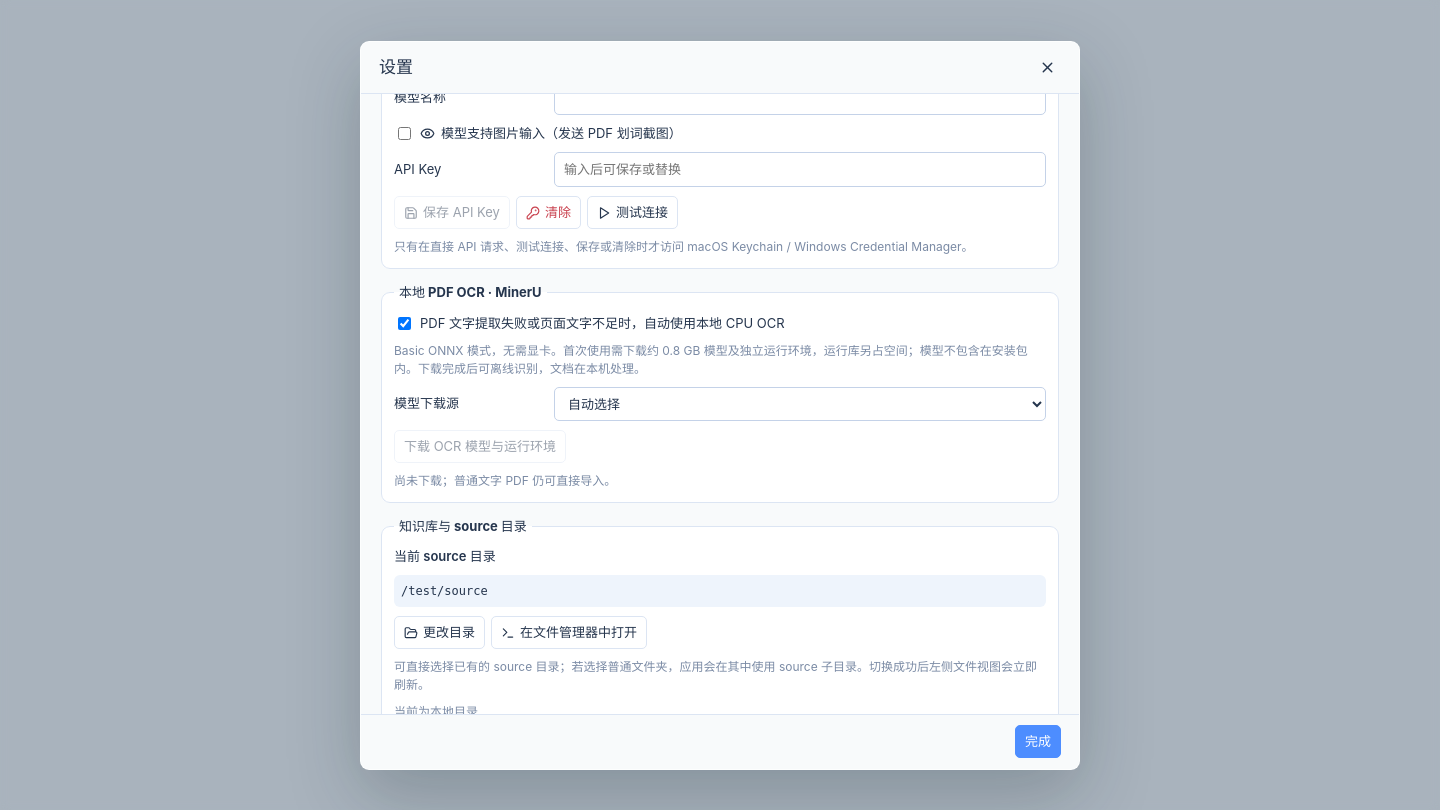
Test case: downloads on demand with the selected source and shows readiness
This screenshot has width=1440, height=810.
(page scrolled)
Expected: the text "尚未下载；普通文字 PDF 仍可直接导入。" is shown, [394,473,616,488]
Expected: the checkbox labelled "PDF 文字提取失败或页面文字不足时，自动使用本地 CPU OCR" is checked, [398,317,411,330]
Select "ModelScope" in the dropdown labelled "模型下载源" at (800, 404), box [554,387,1046,421]
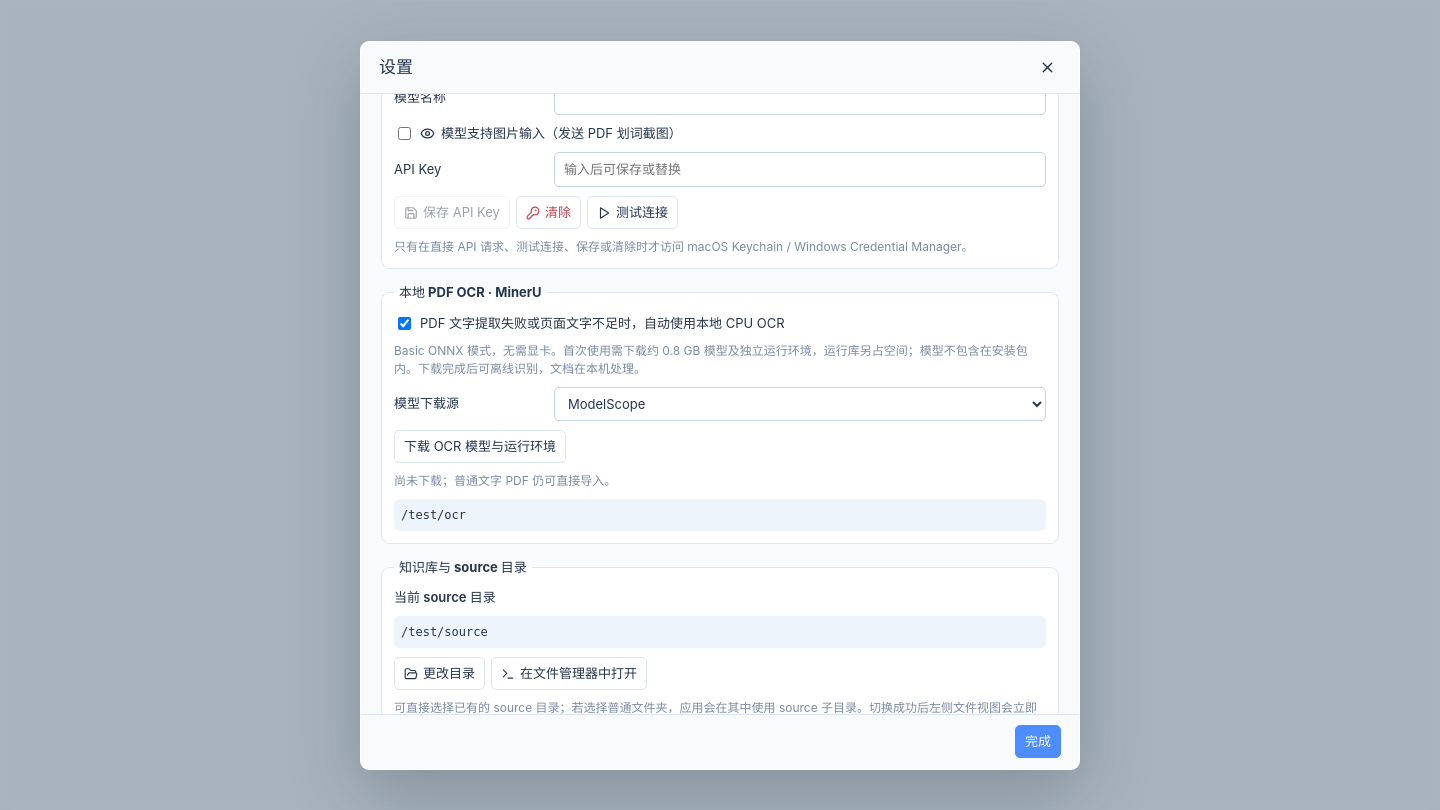
Click the button "下载 OCR 模型与运行环境".
click(480, 446)  # box [394,430,566,463]
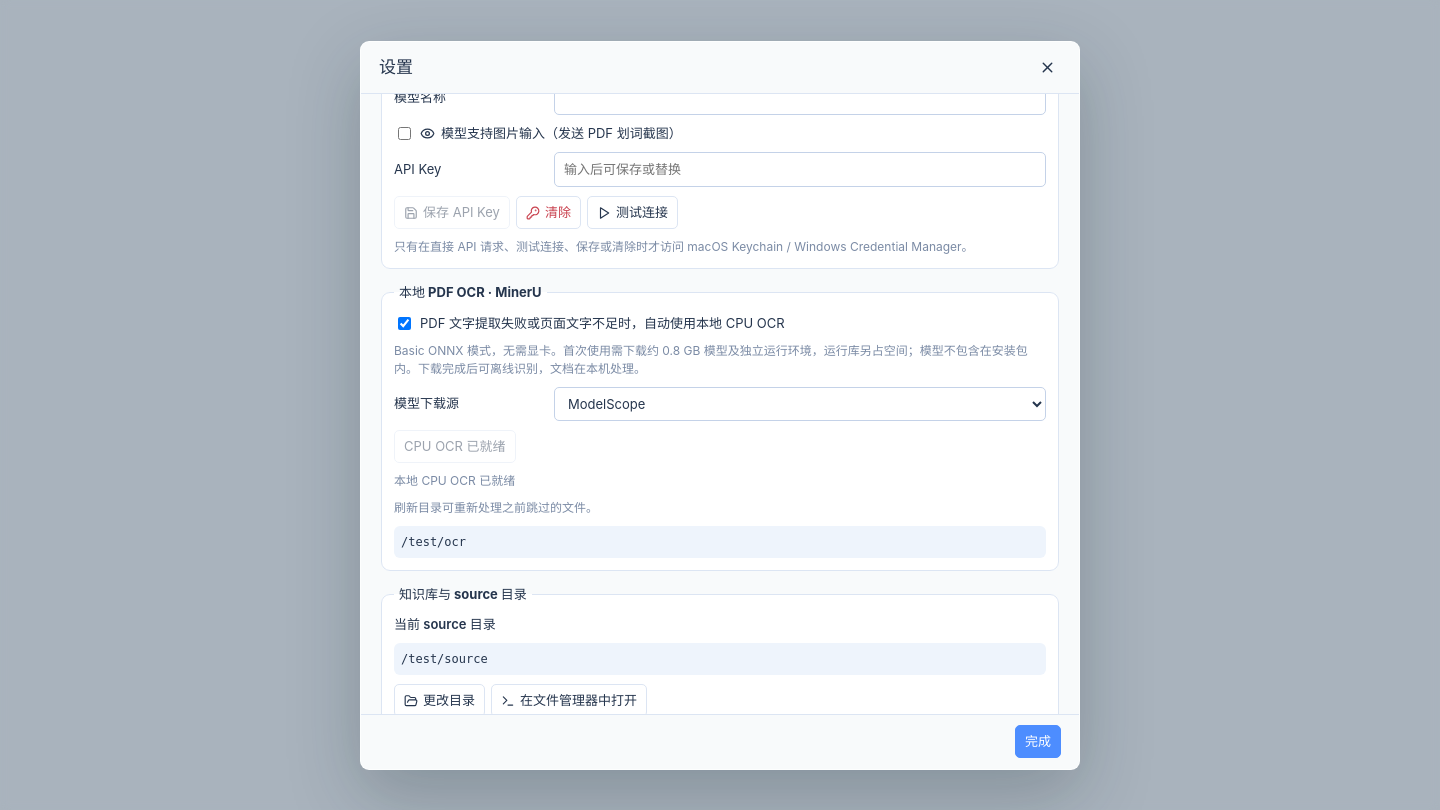
Result: the button "CPU OCR 已就绪" is disabled at [394,430,516,463]
